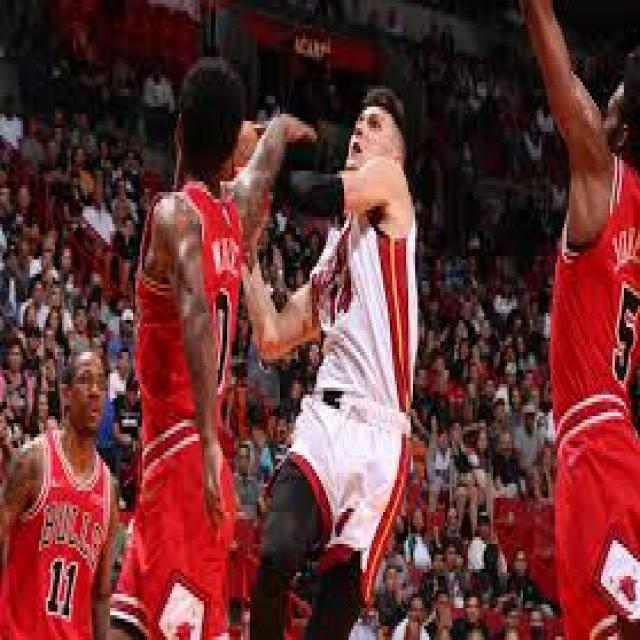rim: (218, 117, 264, 192)
